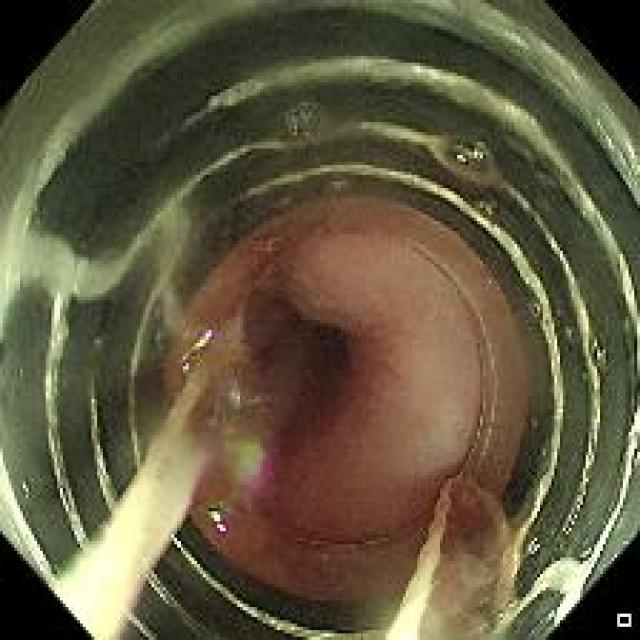bubbles: (266, 92, 328, 151), (440, 133, 495, 187)
color misalignment: (222, 433, 285, 523), (54, 517, 115, 570), (180, 327, 216, 380), (228, 383, 259, 419), (207, 503, 230, 548)
contrast: (253, 291, 351, 441)
instrument: (5, 15, 626, 620), (36, 312, 205, 607), (400, 465, 538, 627)
saturation: (40, 500, 150, 640), (2, 464, 48, 576), (560, 561, 598, 620), (381, 603, 426, 640)
specularity: (22, 482, 31, 498), (528, 542, 540, 553)
